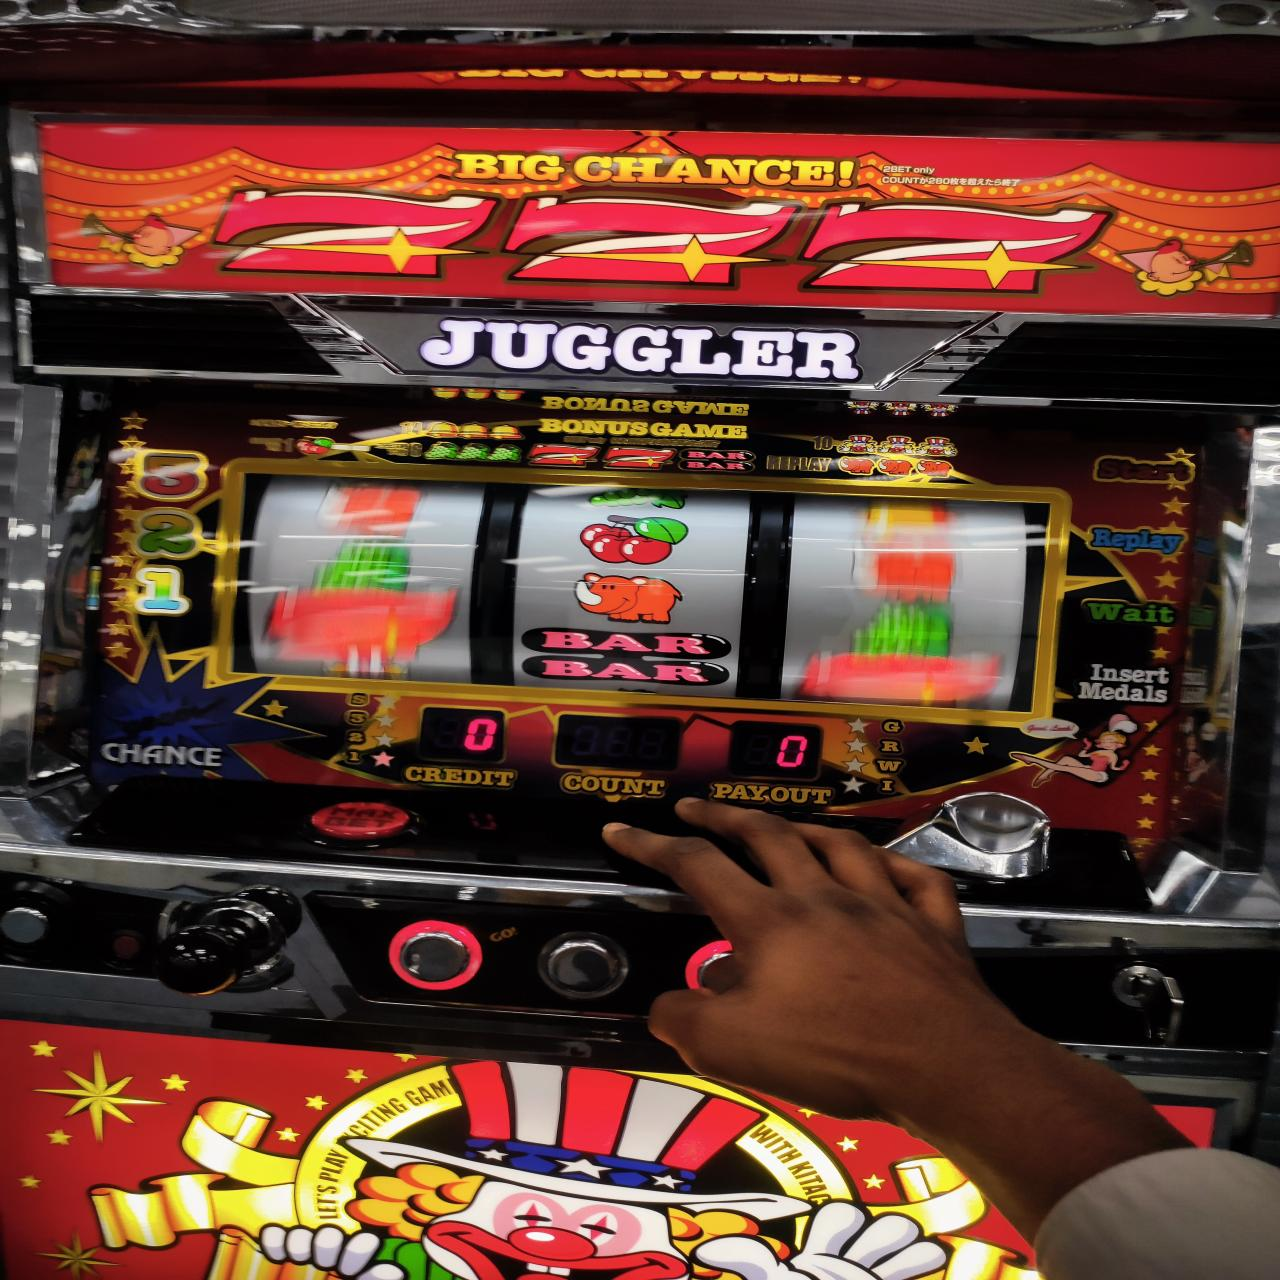8: (576, 572, 688, 625)
bar: (519, 625, 727, 690)
cherry: (577, 515, 689, 564)
rhino: (236, 468, 1039, 717)
